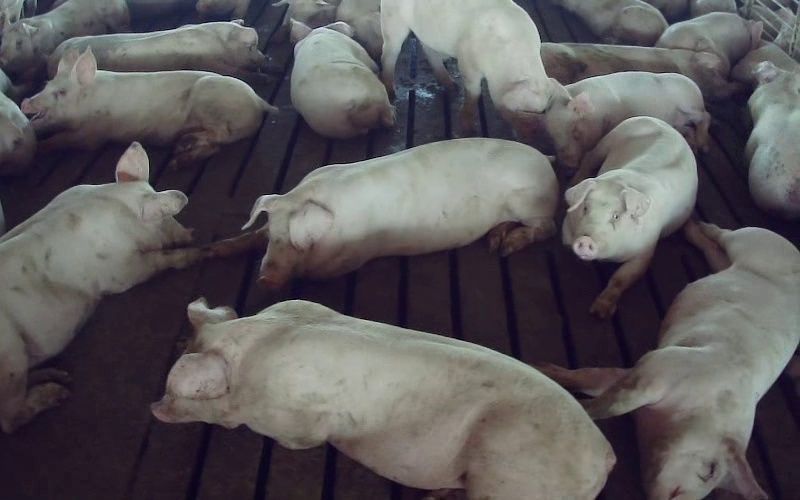pig: (152, 299, 614, 499), (543, 221, 799, 499), (0, 143, 200, 431), (206, 138, 557, 286), (22, 48, 276, 165), (562, 116, 697, 317), (381, 0, 559, 132), (509, 72, 709, 168), (290, 19, 394, 138), (48, 20, 264, 76), (541, 43, 734, 98), (745, 62, 799, 218), (655, 12, 762, 70), (554, 0, 667, 45)
